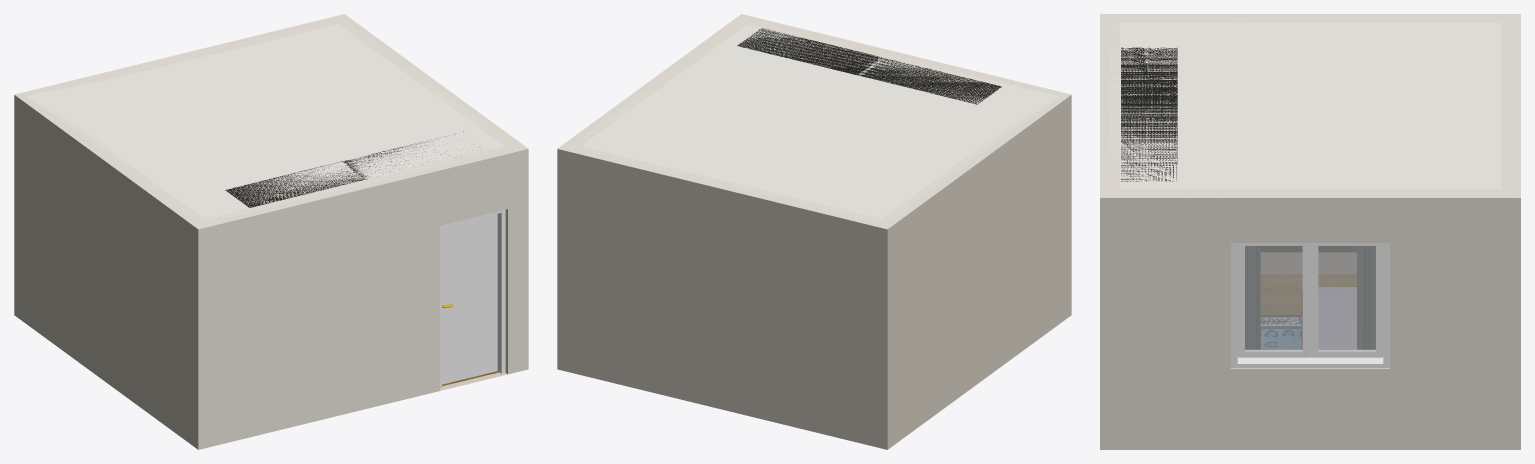
3 renders of one model, left to right at view 1: azimuth 30°, elevation 25°; view 2: azimuth 150°, elevation 25°; view 3: azimuth 270°, elevation 25°, orthographic. The views are drawn at different scales.
Visible parts, largest first — view 1: wall_3_16, room_5_27, wall_4_22, sweethome3d_opening_on_hinge_1_door_36, Box_Plane_83, frame_28, wall_3_18, wall_1_6, wall_3_19, wall_4_24, wall_2_12, wall_2_13 (+2 smaller); view 2: wall_1_4, room_5_27, wall_4_22, Box_Plane_83, wall_1_6, wall_3_18, wall_1_7, wall_4_24, wall_2_12, wall_2_13, wall_3_19, wall_4_25; view 3: wall_2_10, room_5_27, Box_Plane_83, sweethome3d_window_pane_on_hinge_1_43, sweethome3d_window_pane_on_hinge_2_48, frame_37, mattress_18_66, sweethome3d_opening_on_hinge_1_42, sweethome3d_opening_on_hinge_2_47, room_5_26, wall_4_24, LeftCurtain_64_128 (+11 smaller).
Part boxes in pixels (x1,y1,x2,y2): wall_3_16: (198,149,528,449); room_5_27: (26,19,515,223); wall_4_22: (14,95,198,449); sweethome3d_opening_on_hinge_1_door_36: (442,214,497,384); Box_Plane_83: (225,131,463,207); frame_28: (440,209,505,388); wall_3_18: (199,147,528,229); wall_1_6: (15,14,344,95); wall_3_19: (202,146,515,224); wall_4_24: (14,94,201,229); wall_2_12: (341,14,527,148); wall_2_13: (338,19,516,147); wall_1_4: (557,149,887,449); room_5_27: (571,20,1058,223); wall_4_22: (887,95,1071,449); Box_Plane_83: (737,28,1001,104); wall_1_6: (557,147,886,229); wall_3_18: (741,14,1070,95); wall_1_7: (570,146,883,223); wall_4_24: (884,94,1071,229); wall_2_12: (558,14,744,148); wall_2_13: (569,19,747,147); wall_3_19: (745,19,1053,94); wall_4_25: (881,96,1059,223); wall_2_10: (1100,198,1520,449); room_5_27: (1110,18,1510,193); Box_Plane_83: (1121,47,1177,181); sweethome3d_window_pane_on_hinge_1_43: (1318,246,1375,350); sweethome3d_window_pane_on_hinge_2_48: (1245,246,1302,350); frame_37: (1231,243,1389,368); mattress_18_66: (1318,287,1356,349); sweethome3d_opening_on_hinge_1_42: (1310,246,1383,357); sweethome3d_opening_on_hinge_2_47: (1237,246,1309,357); room_5_26: (1261,274,1356,314); wall_4_24: (1100,14,1520,18); LeftCurtain_64_128: (1357,246,1375,349).
Bounding box in the file's own units: 439 × 280 × 424.
Materials: 61 (16 with a texture image).
